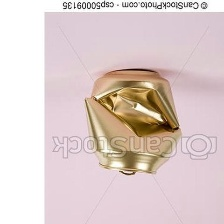can: (80, 59, 185, 177)
